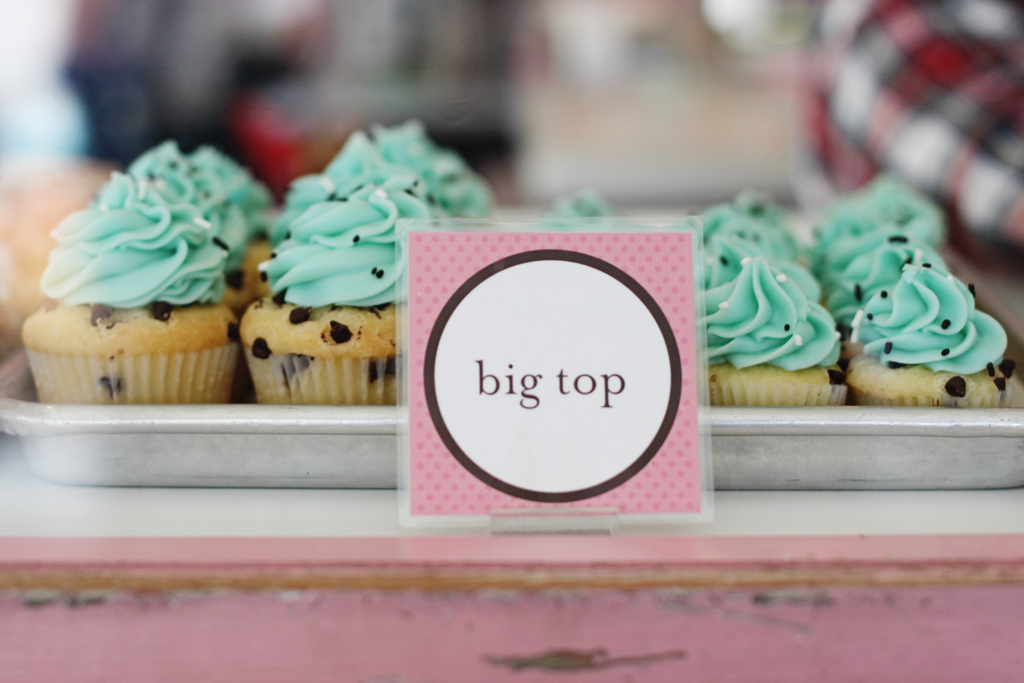cake: (674, 190, 1021, 415), (1, 137, 270, 410), (237, 118, 452, 403)
